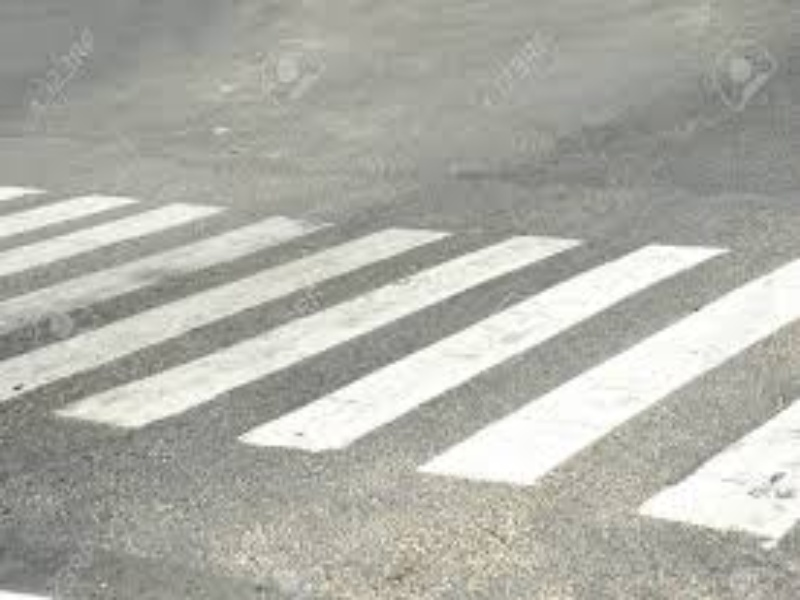zebra cross: (1, 186, 798, 546)
